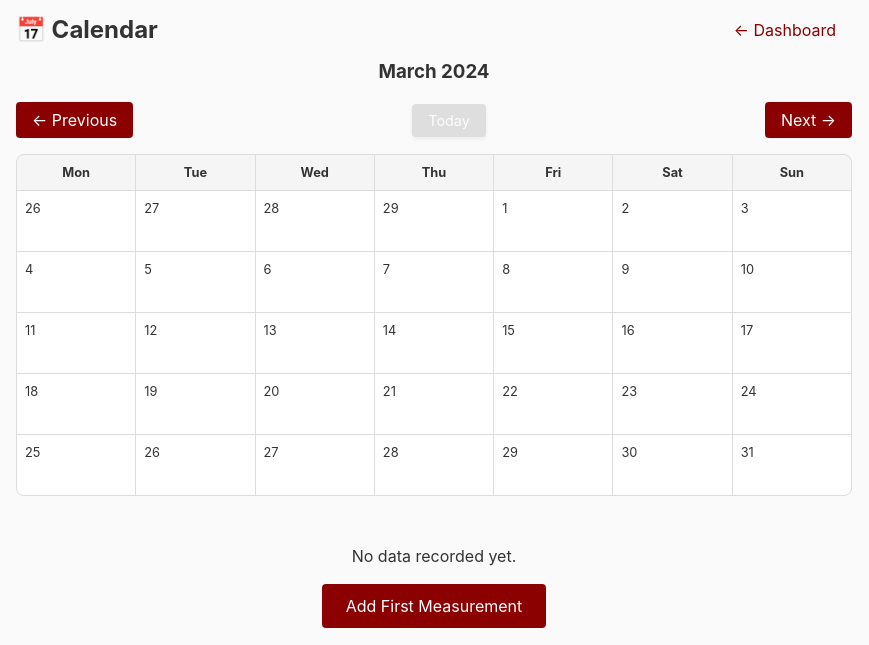
Test: Calendar › Month Navigation › navigates back to current month when today button clicked
This screenshot has width=869, height=645.
Navigate to different month first
Click the button "Next →" at (808, 120), box [765,102,852,138]
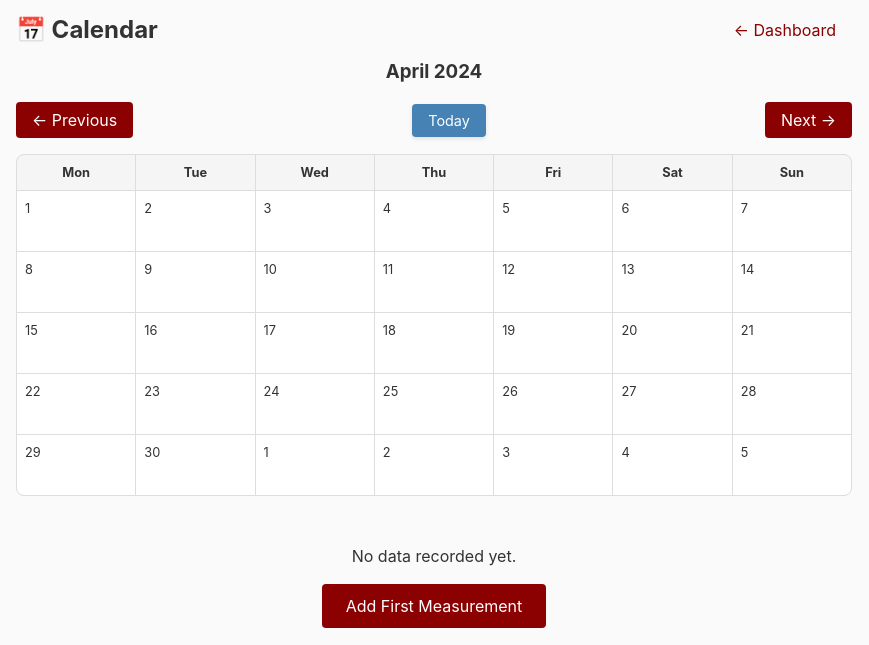
Now the heading "April 2024" is shown, box [386,58,482,86]
Then click today button
Click the button "Today" at (449, 120), box [412,104,486,137]
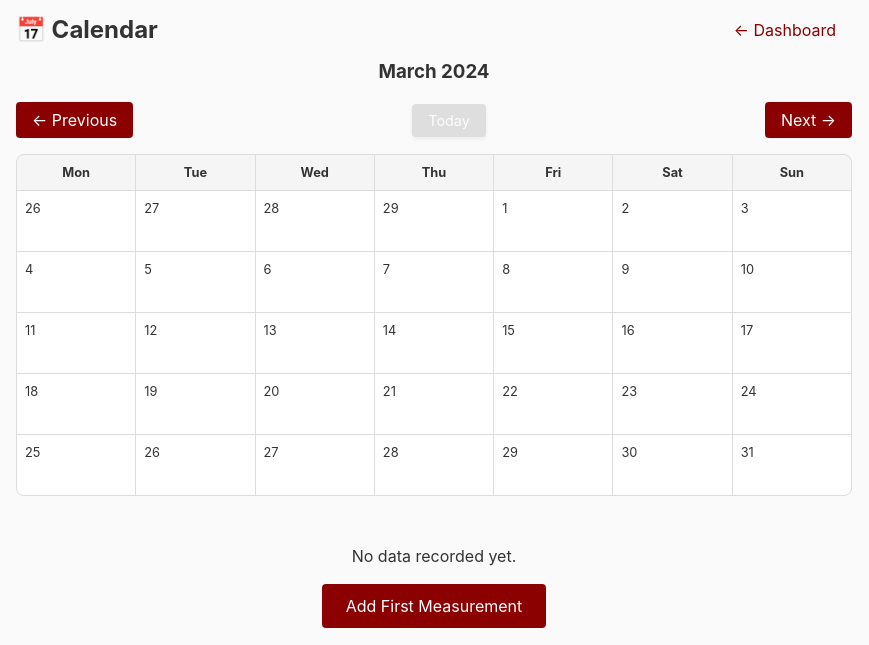
Now the heading "March 2024" is shown, box [378,58,490,86]
